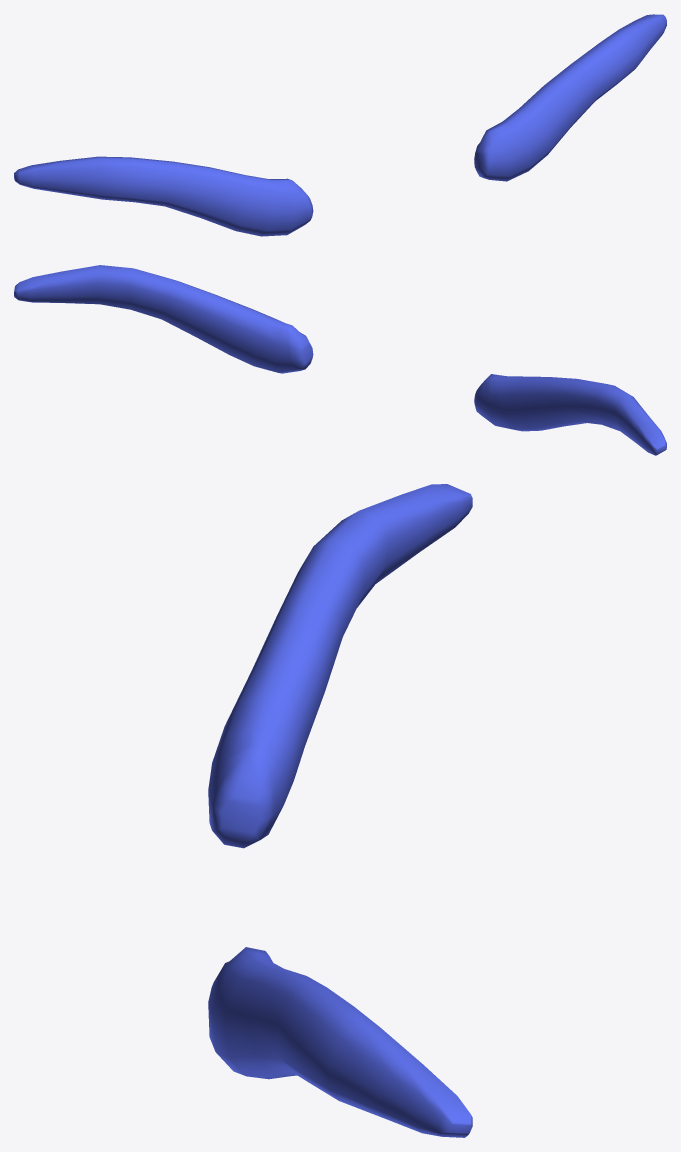
Rendered from Eyebrows_17_03.fbx.
3 views of the same model, one above another, from view 1: azimuth 30°, elevation 25°; view 2: azimuth 150°, elevation 25°; view 3: azimuth 270°, elevation 25° (orthographic). The views are drawn at different scales.
Visible parts, largest first — view 1: Eyebrows_17_03; view 2: Eyebrows_17_03; view 3: Eyebrows_17_03.
Part boxes in pixels (x1,y1,x2,y2): Eyebrows_17_03: (14, 14, 666, 236); Eyebrows_17_03: (14, 265, 666, 455); Eyebrows_17_03: (208, 484, 472, 1137).
Bounding box in the file's own units: 18.79 × 2.52 × 3.3.
